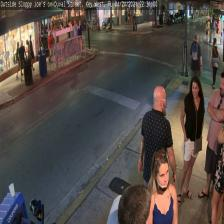person: (190, 32, 202, 86), (208, 37, 220, 89)
